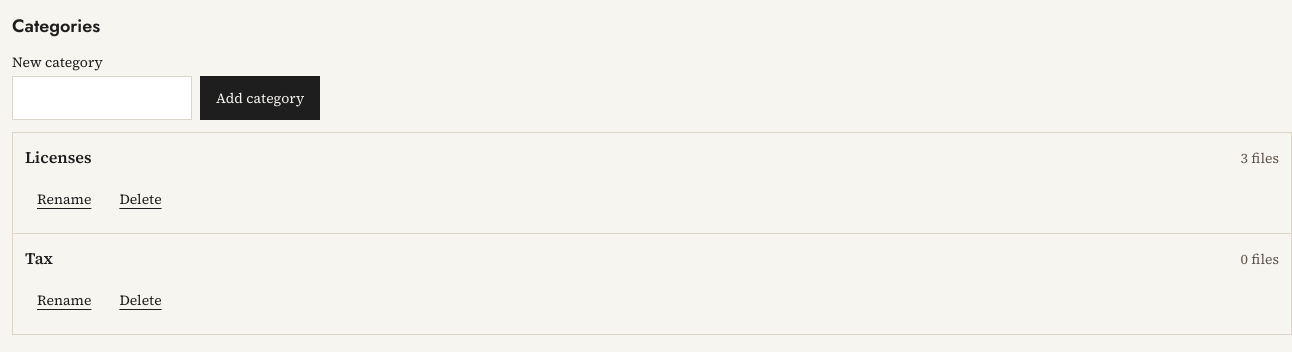
CategoryManager › an empty category's confirmation mentions no files
Step 1. Click the button with aria-label "Delete category Tax" → (140, 300), box left=107, top=278, right=174, bottom=322
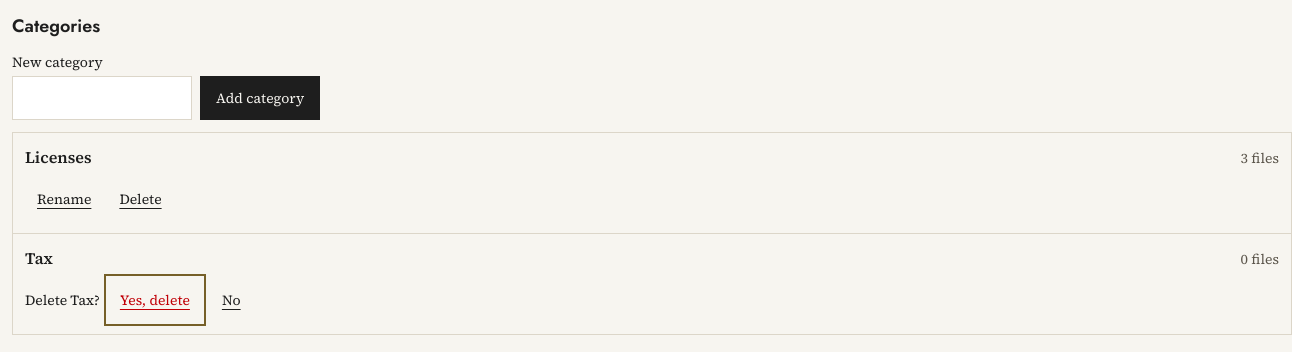
Now the text "Delete Tax?" is shown, box left=25, top=290, right=100, bottom=310
